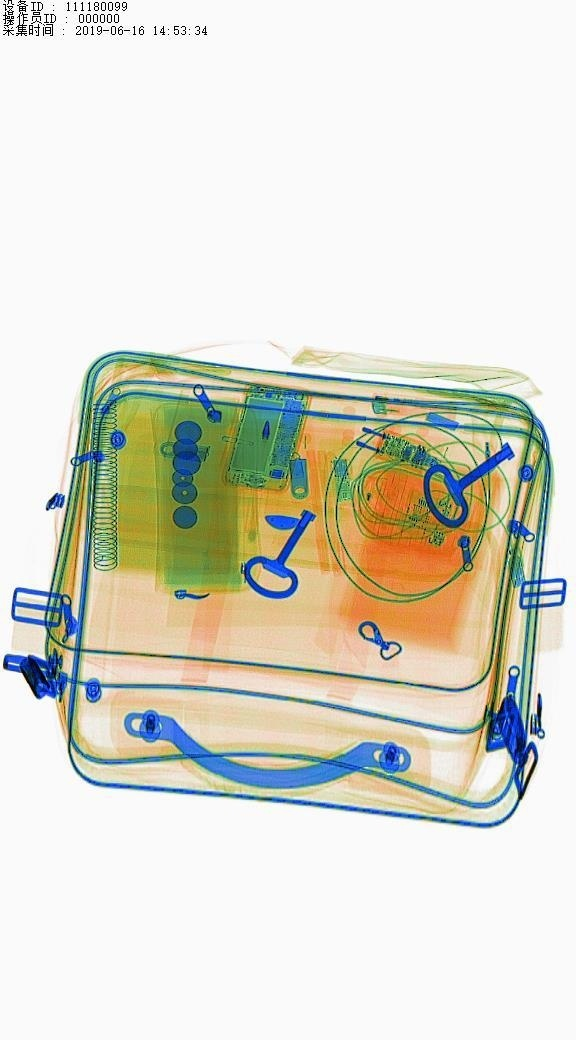NonmetallicFire: (366, 389, 478, 436)
